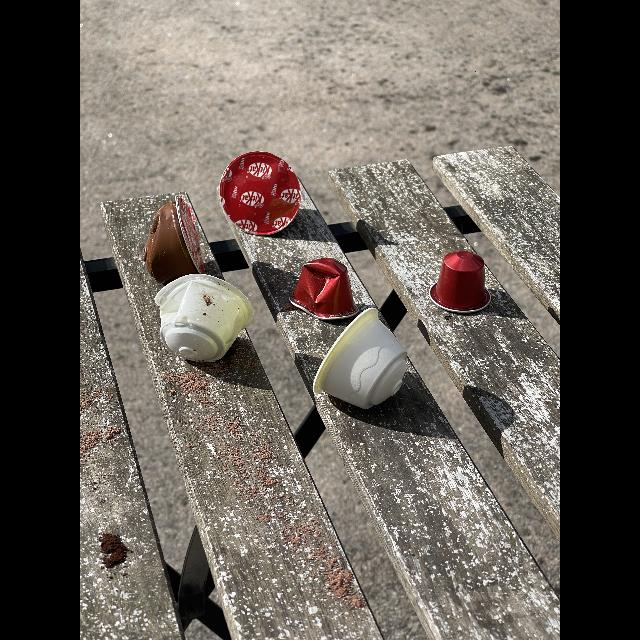damaged_capsule: (152, 272, 258, 366), (137, 191, 213, 285), (284, 254, 362, 322)
intact_capsule: (303, 306, 432, 412), (427, 246, 495, 316)
